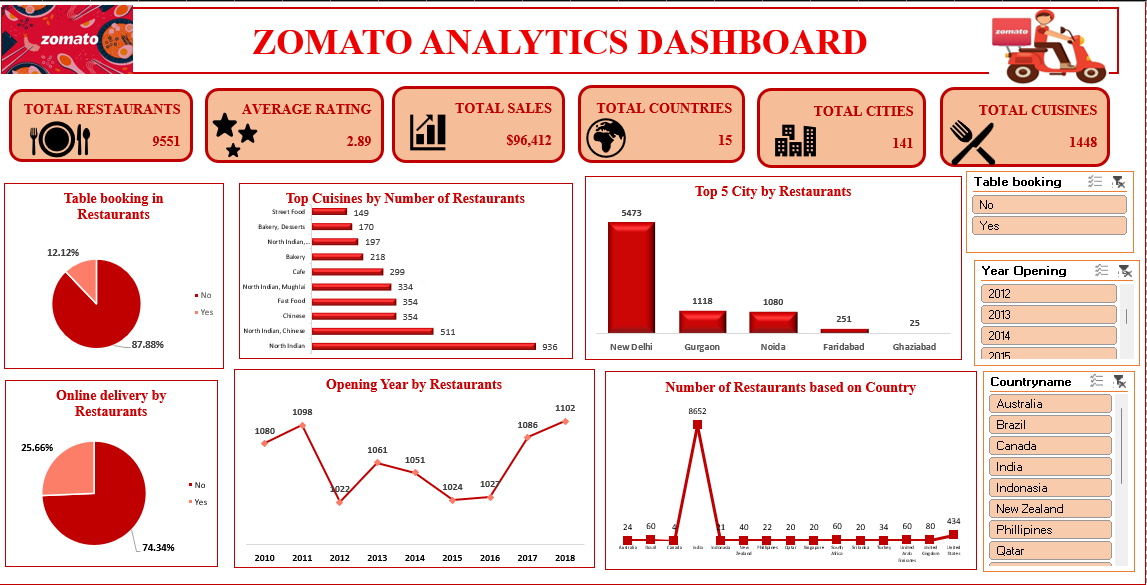

This screenshot's page, from the dashboard's own definition file:
{"tool":"powerbi","page":{"name":"Over View","canvas":[1280,720],"ordinal":1},"visuals":[{"type":"shape","box":[119.1,495.6,192.5,222.5],"z":0},{"type":"shape","box":[537.6,498.5,189.6,216.1],"z":1000},{"type":"shape","box":[331.6,495.6,190,222.5],"z":2000},{"type":"barChart","title":"Cuisines by RestaurantName ","fields":{"Category":["Main.Cuisines"],"Y":["CountNonNull(Main.RestaurantName)"]},"box":[734.3,20,532.9,418.6],"z":3000},{"type":"lineChart","title":"Restaurants Opened by Year ","fields":{"Y":["Measure_Table.Restaurants Opened"],"Category":["Main.Year Opening"]},"box":[732.9,451.4,547.1,268.6],"z":4000},{"type":"card","title":"Total Restaurants","fields":{"Values":["Measure_Table.Total Restaurants"]},"box":[592.3,392,131.4,87.1],"z":5000},{"type":"card","title":"Total Cuisines","fields":{"Values":["Measure_Table.Total cuisines"]},"box":[468.7,394.9,117.1,81.4],"z":6000},{"type":"card","title":"Avg Rating","fields":{"Values":["Measure_Table.Avg Rating"]},"box":[338,392,124.3,87.1],"z":7000},{"type":"card","title":"Total Countries","fields":{"Values":["Measure_Table.count of country"]},"box":[208.7,394.9,122.9,81.4],"z":8000},{"type":"card","title":"Total Cities","fields":{"Values":["Count(Main.City)"]},"box":[96.6,394.9,105.7,81.4],"z":9000},{"type":"card","fields":{"Values":["Measure_Table.Chinese Restaurants"]},"box":[547.1,617.1,180,90],"z":10000},{"type":"card","fields":{"Values":["Measure_Table.Indian Restaurants"]},"box":[347.9,613.1,171.2,97.5],"z":11000},{"type":"card","fields":{"Values":["Measure_Table.Mexican Restaurants"]},"box":[126.6,613.1,168.8,101.2],"z":12000},{"type":"image","box":[136.6,504.4,158.8,108.8],"z":13000},{"type":"image","box":[337.9,508.1,177.5,101.2],"z":14000},{"type":"image","box":[546.6,501.9,168.8,115],"z":15000},{"type":"shape","box":[0,0,94.3,718.6],"z":16000},{"type":"image","box":[4.3,20,84.3,74.3],"z":17000},{"type":"textbox","box":[105.7,0,395.7,57.1],"z":18000},{"type":"textbox","box":[107.1,338.6,132.9,42.9],"z":19000},{"type":"shape","box":[102.9,57.1,614.3,241.4],"z":20000},{"type":"image","box":[127.1,78.6,300,82.9],"z":21000},{"type":"image","box":[410,79,334.8,253.3],"z":22000},{"type":"slicer","fields":{"Values":["Main.Price_Bucket"]},"box":[285.7,317.1,177.1,67.1],"z":23000},{"type":"slicer","fields":{"Values":["Main.Has_Table_booking"]},"box":[457.1,310,277.1,81.4],"z":24000},{"type":"image","box":[9.8,106.4,73.4,83.2],"z":25000},{"type":"image","box":[6.3,195.6,84,80.3],"z":26000},{"type":"actionButton","box":[21.3,638.2,52.7,72.7],"z":27000}]}

Visuals, with their boxes on the page's 1280x720 design canvas (x1, y1, x2, y2). These are canvas units, not pixel positions in the 1147x585 screenshot, which may show the page scaled, cropped or inside an application window:
shape: locate(119, 496, 312, 718)
shape: locate(538, 498, 727, 715)
shape: locate(332, 496, 522, 718)
"Cuisines by RestaurantName " barChart: locate(734, 20, 1267, 439)
"Restaurants Opened by Year " lineChart: locate(733, 451, 1280, 720)
"Total Restaurants" card: locate(592, 392, 724, 479)
"Total Cuisines" card: locate(469, 395, 586, 476)
"Avg Rating" card: locate(338, 392, 462, 479)
"Total Countries" card: locate(209, 395, 332, 476)
"Total Cities" card: locate(97, 395, 202, 476)
card - Measure_Table.Chinese Restaurants: locate(547, 617, 727, 707)
card - Measure_Table.Indian Restaurants: locate(348, 613, 519, 711)
card - Measure_Table.Mexican Restaurants: locate(127, 613, 295, 714)
image: locate(137, 504, 295, 613)
image: locate(338, 508, 515, 609)
image: locate(547, 502, 715, 617)
shape: locate(0, 0, 94, 719)
image: locate(4, 20, 89, 94)
textbox: locate(106, 0, 501, 57)
textbox: locate(107, 339, 240, 382)
shape: locate(103, 57, 717, 298)
image: locate(127, 79, 427, 162)
image: locate(410, 79, 745, 332)
slicer - Main.Price_Bucket: locate(286, 317, 463, 384)
slicer - Main.Has_Table_booking: locate(457, 310, 734, 391)
image: locate(10, 106, 83, 190)
image: locate(6, 196, 90, 276)
actionButton: locate(21, 638, 74, 711)
